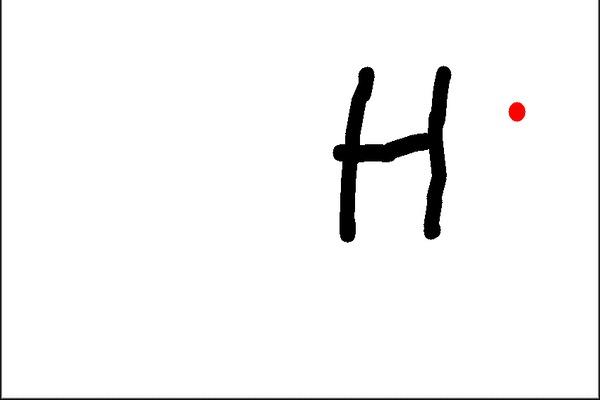H: (330, 59, 454, 243)
